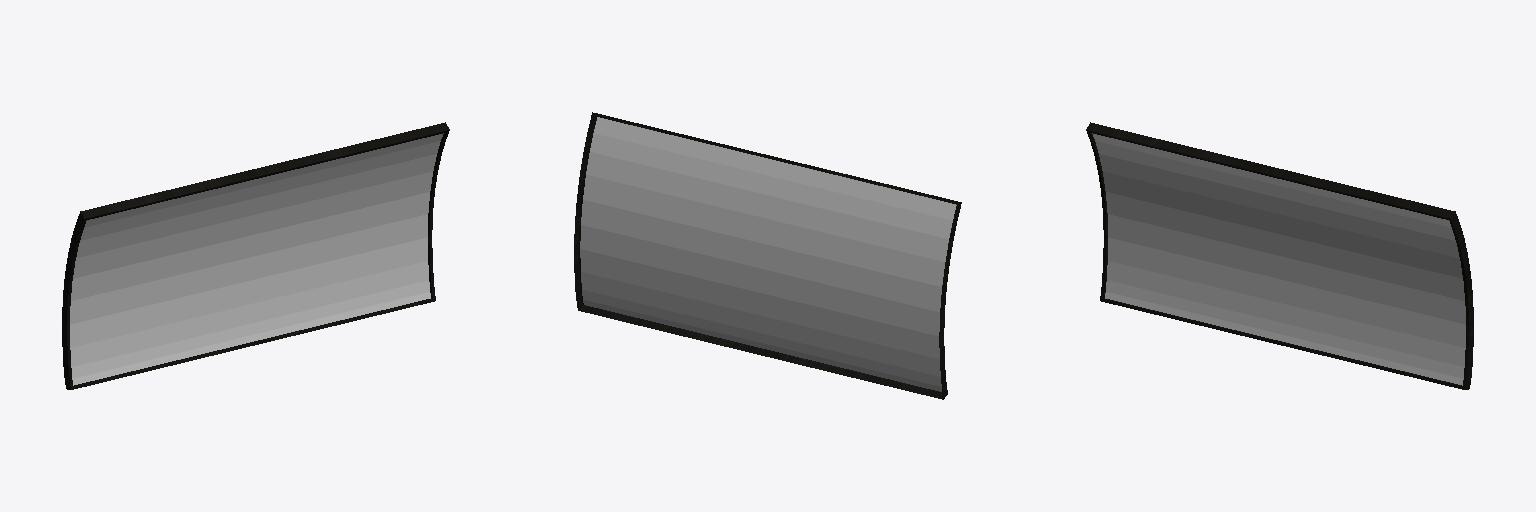
3 renders of one model, left to right at view 1: azimuth 30°, elevation 25°; view 2: azimuth 150°, elevation 25°; view 3: azimuth 330°, elevation 25°, orthographic.
Visible parts, largest first — view 1: poster_ad.001; view 2: poster_ad.001; view 3: poster_ad.001.
Part boxes in pixels (x1,y1,x2,y2): poster_ad.001: (62, 122, 449, 389); poster_ad.001: (574, 112, 961, 399); poster_ad.001: (1086, 122, 1473, 389).
Bounding box in the file's own units: 6.33 × 3.11 × 0.6797.
2 materials, 1 textured.